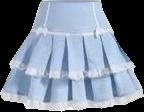Hemline: (0, 93, 143, 111), (9, 63, 134, 80)
Waistline: (32, 28, 113, 35), (41, 0, 100, 1)
